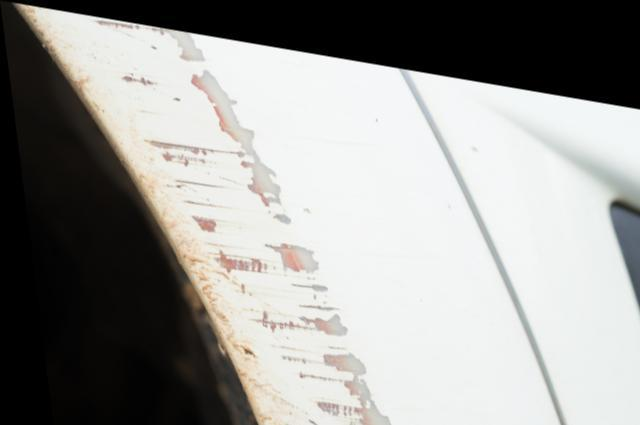scratch: (14, 2, 400, 425)
